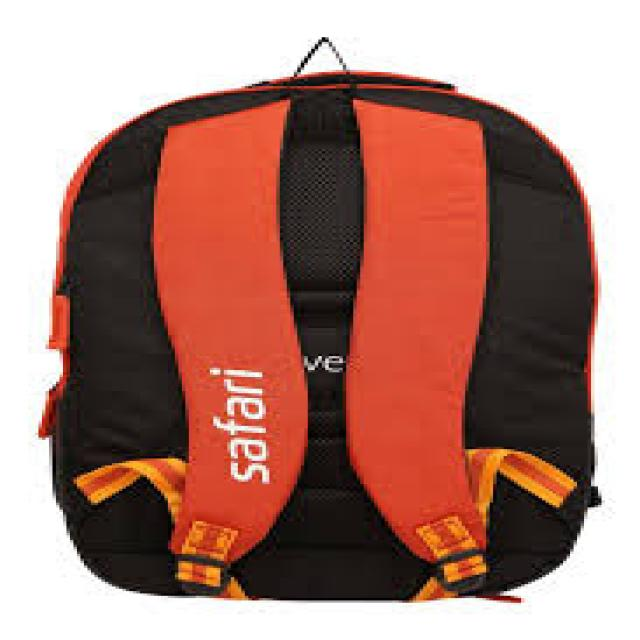backpack: (36, 36, 603, 604)
